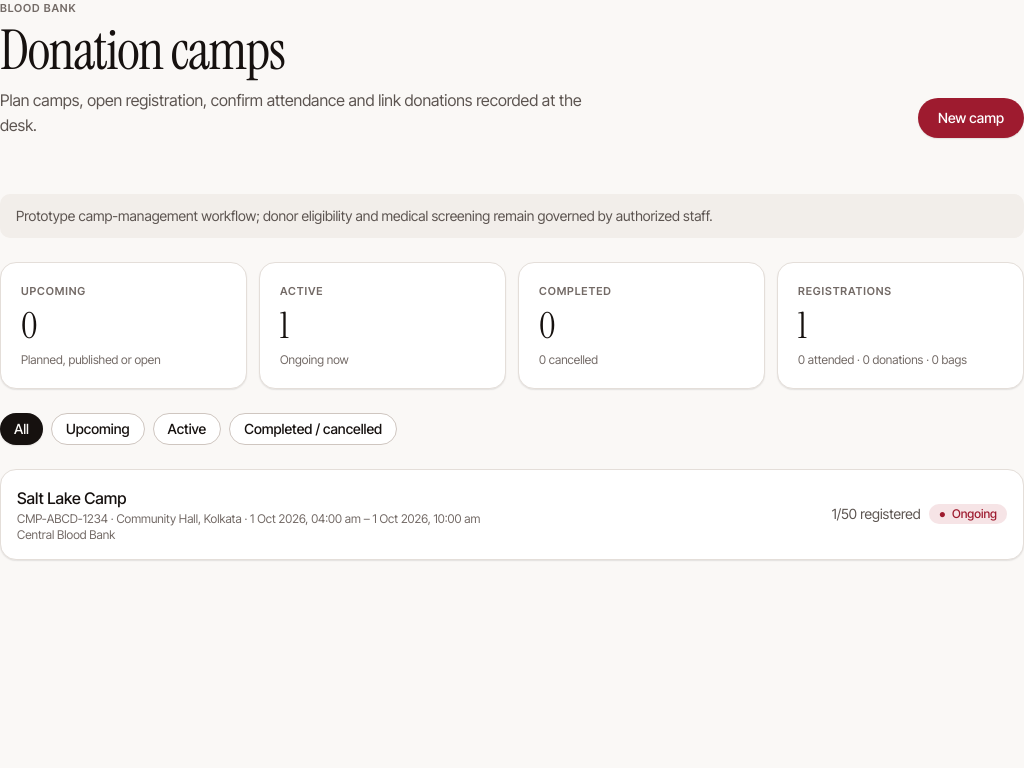
camp management › lists camps with the dashboard, filter and disclaimer
Expected: the text "Salt Lake Camp" is shown, [17, 488, 126, 508]
Expected: the text with test id "camp-disclaimer" shows "Prototype camp-management workflow; donor eligibility and medical screening remain governed by authorized staff.", [16, 207, 713, 224]
What coordinates should you click on to do the following:
click the button "Upcoming"
I would click on:
 (98, 429)
Its box is [51, 413, 144, 445].
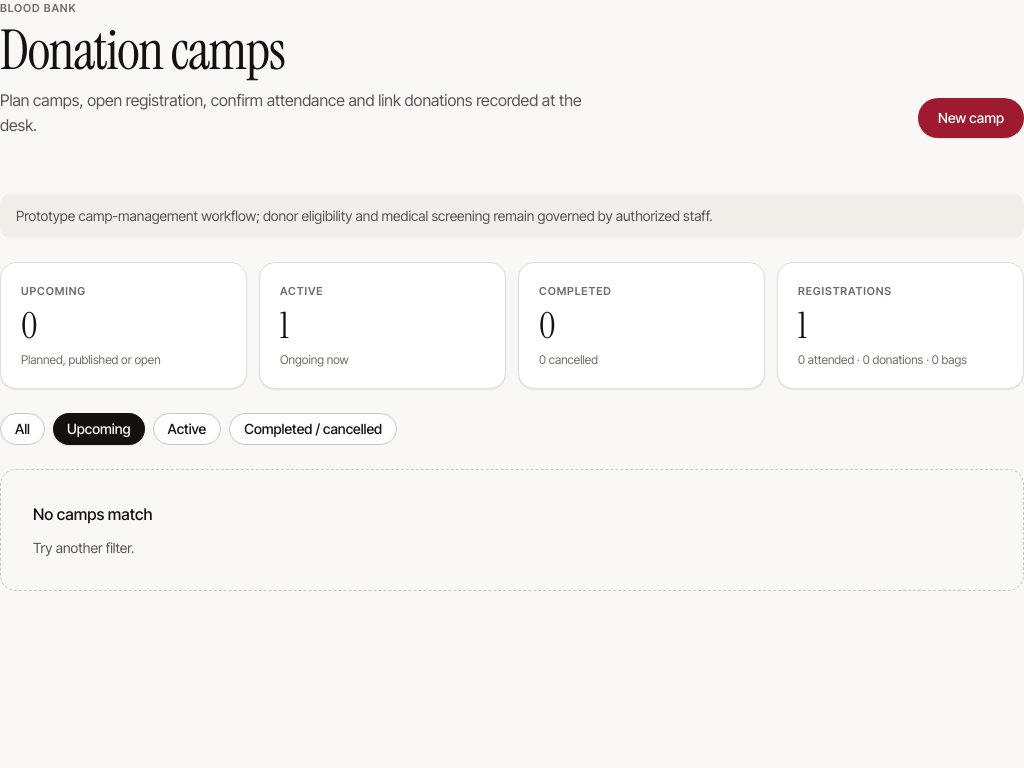
Expected: the text "No camps match" is shown, [33, 502, 152, 526]
What coordinates should you click on to do the following:
click the button "New camp"
I would click on:
 (971, 118)
Its box is [918, 98, 1023, 138].
(page scrolled)
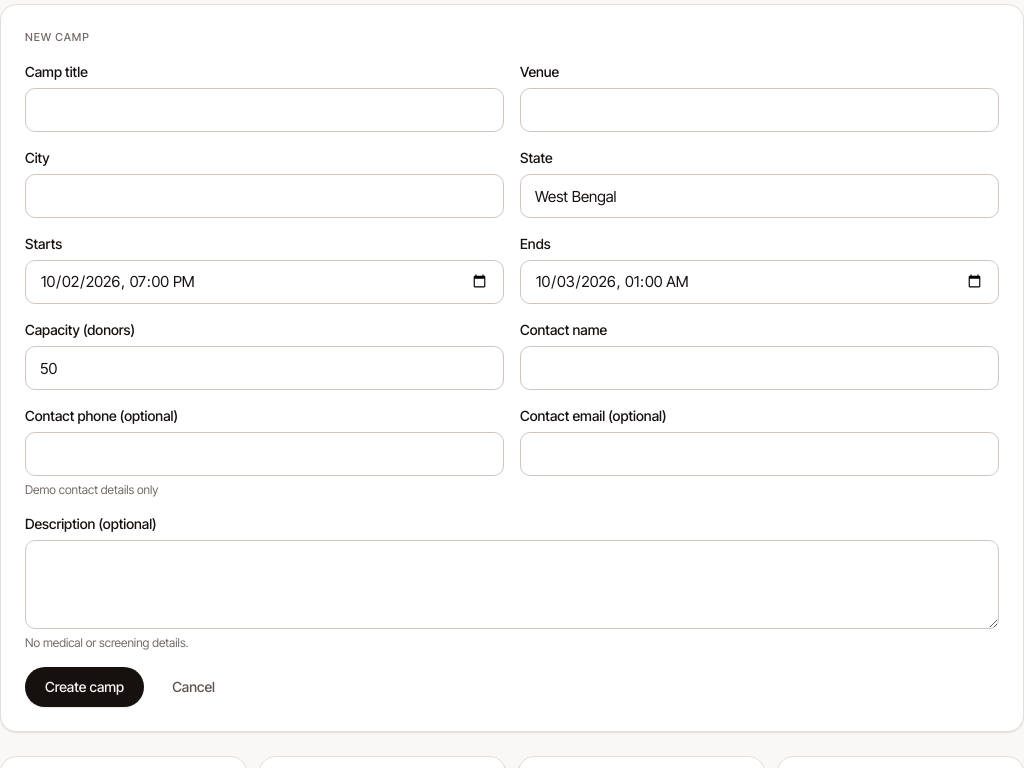
Expected: the form named "New camp" is shown
